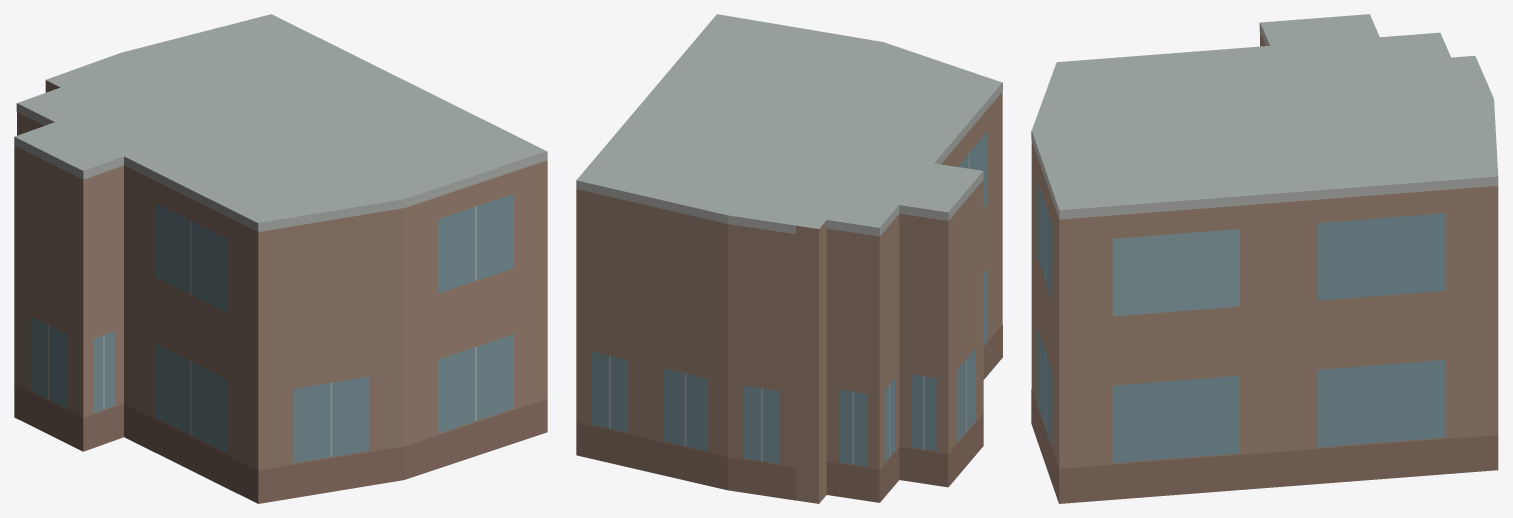
Rendered from survey-upis-32753655.glb.
3 views of the same model, side by side, from view 1: azimuth 30°, elevation 25°; view 2: azimuth 150°, elevation 25°; view 3: azimuth 270°, elevation 25° (orthographic). The views are drawn at different scales.
Parts seen in each view (by area): view 1: survey-upis-32753655.tmp; view 2: survey-upis-32753655.tmp; view 3: survey-upis-32753655.tmp.
Boxes of the visible parts, box(x1,y1,x2,y2) form: survey-upis-32753655.tmp: box(14, 14, 547, 503); survey-upis-32753655.tmp: box(576, 14, 1002, 503); survey-upis-32753655.tmp: box(1031, 14, 1498, 503).
Size of the model in its own units: 11.2 by 7.8 by 11.25.
